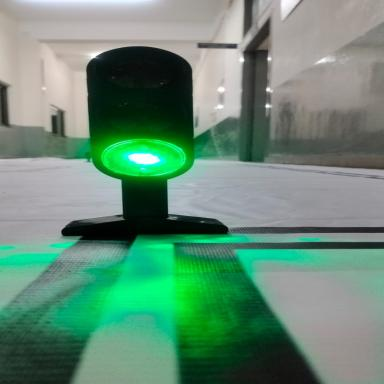green: (50, 39, 293, 260)
